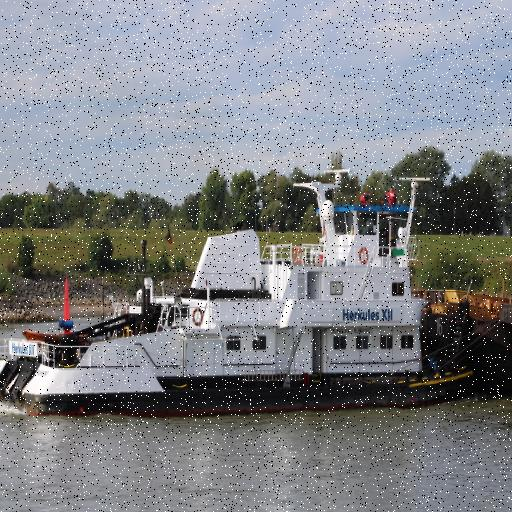tugboat: (1, 168, 474, 427)
